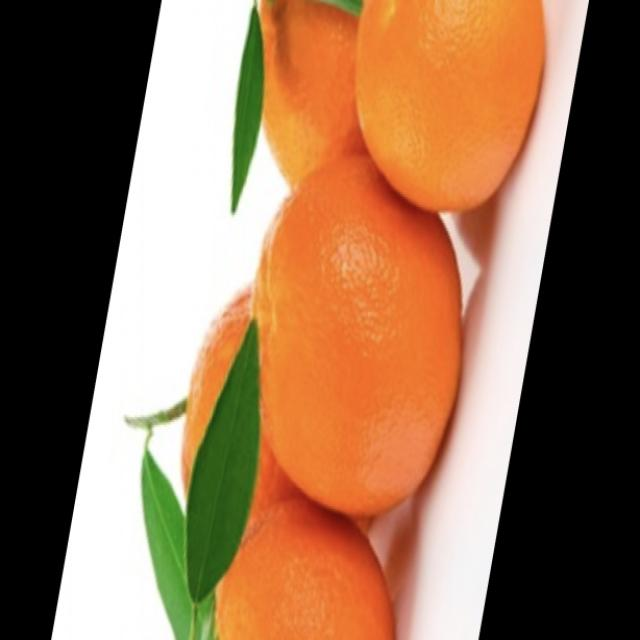fresh: (123, 3, 567, 640)
